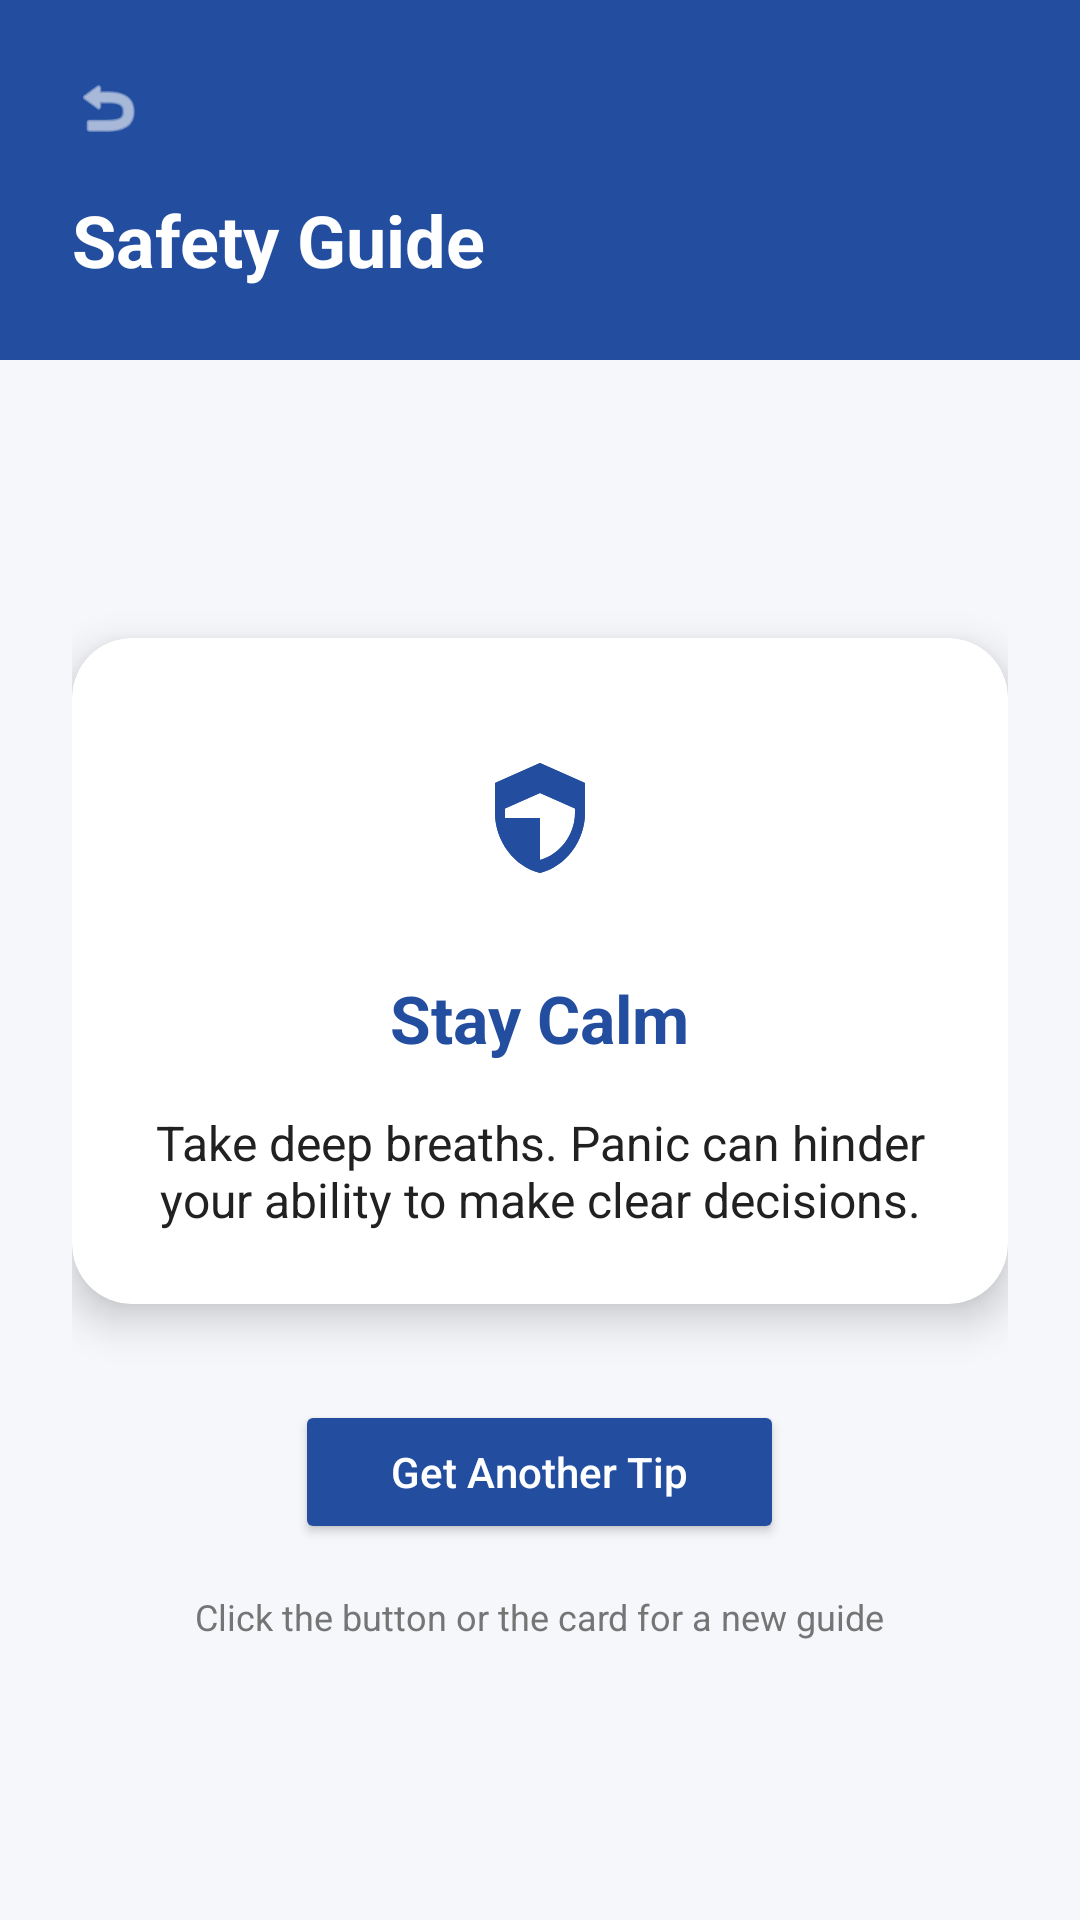

Named icons in this screenshot (1080×1920) and their bounding boxes, region(x1, y1, x2, y2):
revert: region(83, 85, 135, 132)
safety modern: region(495, 763, 585, 873)
